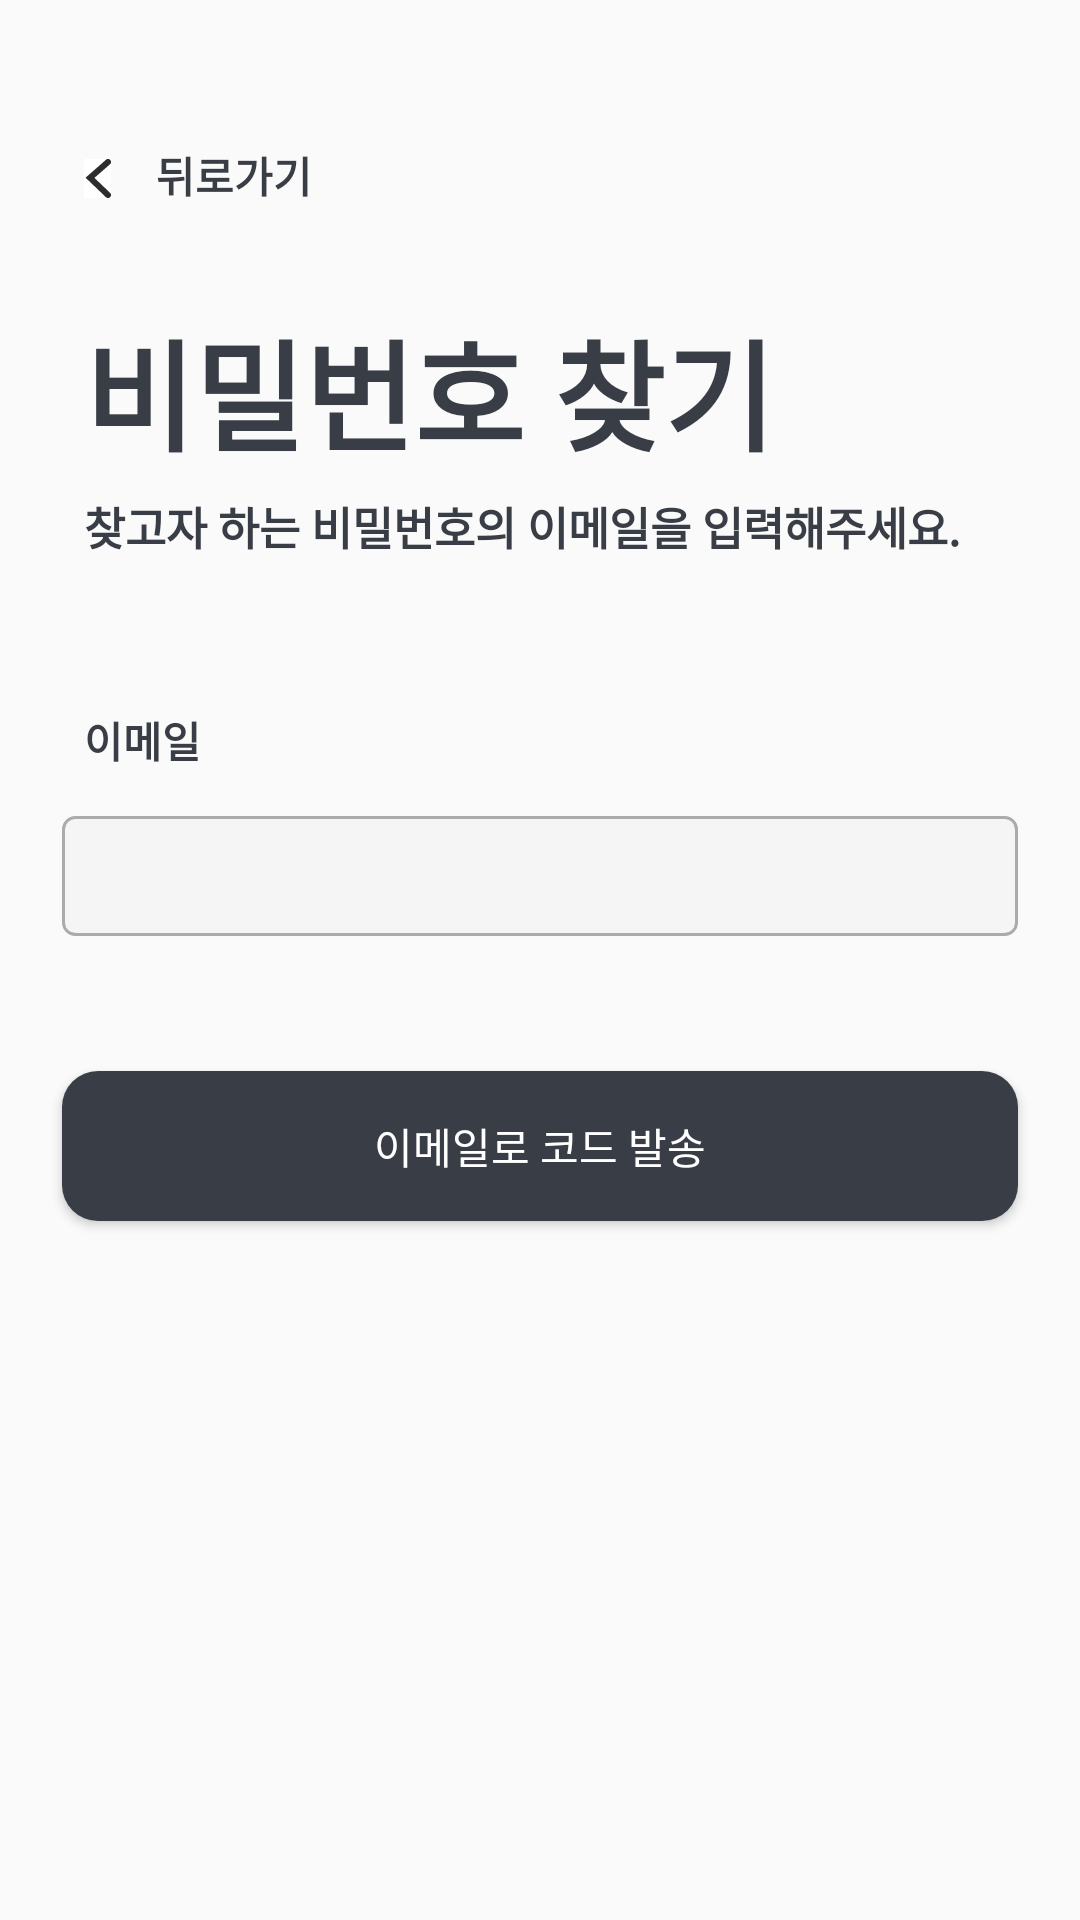

Screen size 1080 × 1920. Icon name, then its center in pixels as (x,y):
arrow: (98,178)
